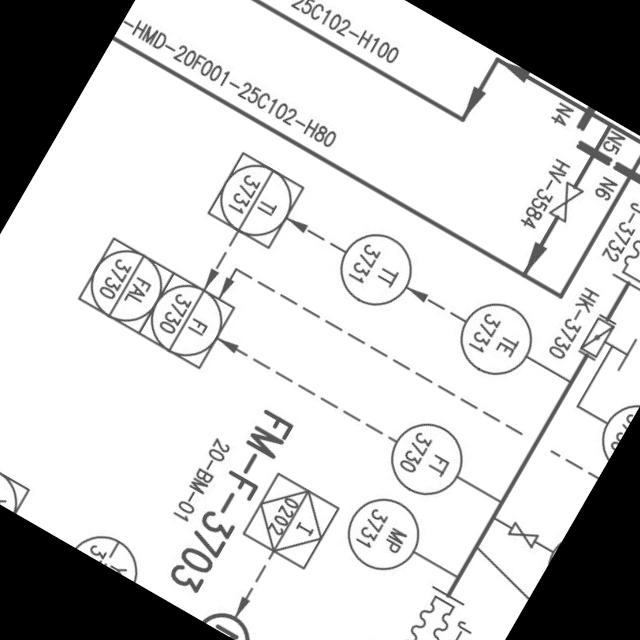BV: (570, 307, 640, 381)
EJ: (389, 581, 466, 640), (604, 197, 640, 299)
GV: (542, 176, 588, 230), (504, 517, 543, 552)
